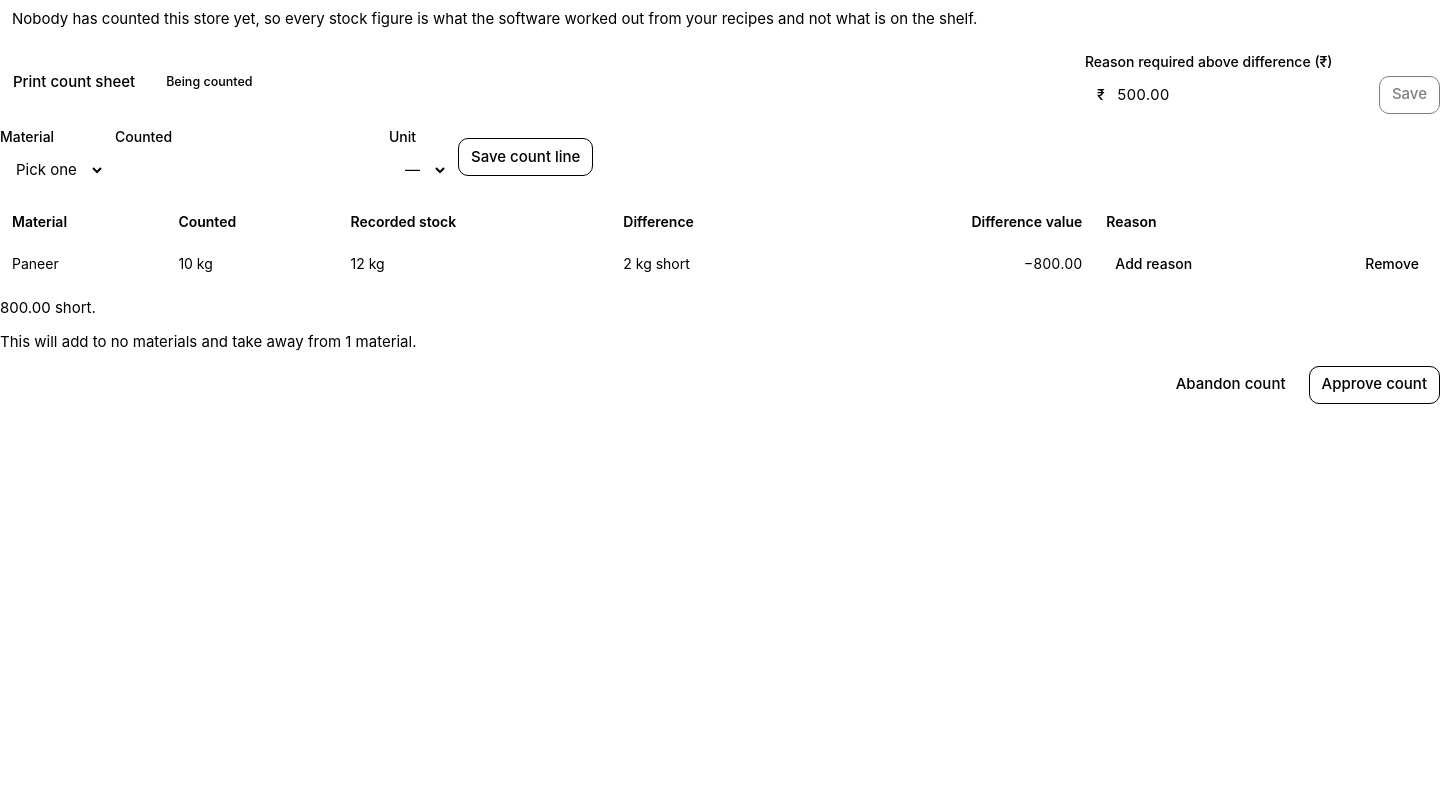
Test case: the stock count (P26) › asks why a big difference happened, rather than silently accepting it
Step 1. Click the button "Add reason" → [1154, 264], box [1106, 248, 1201, 278]
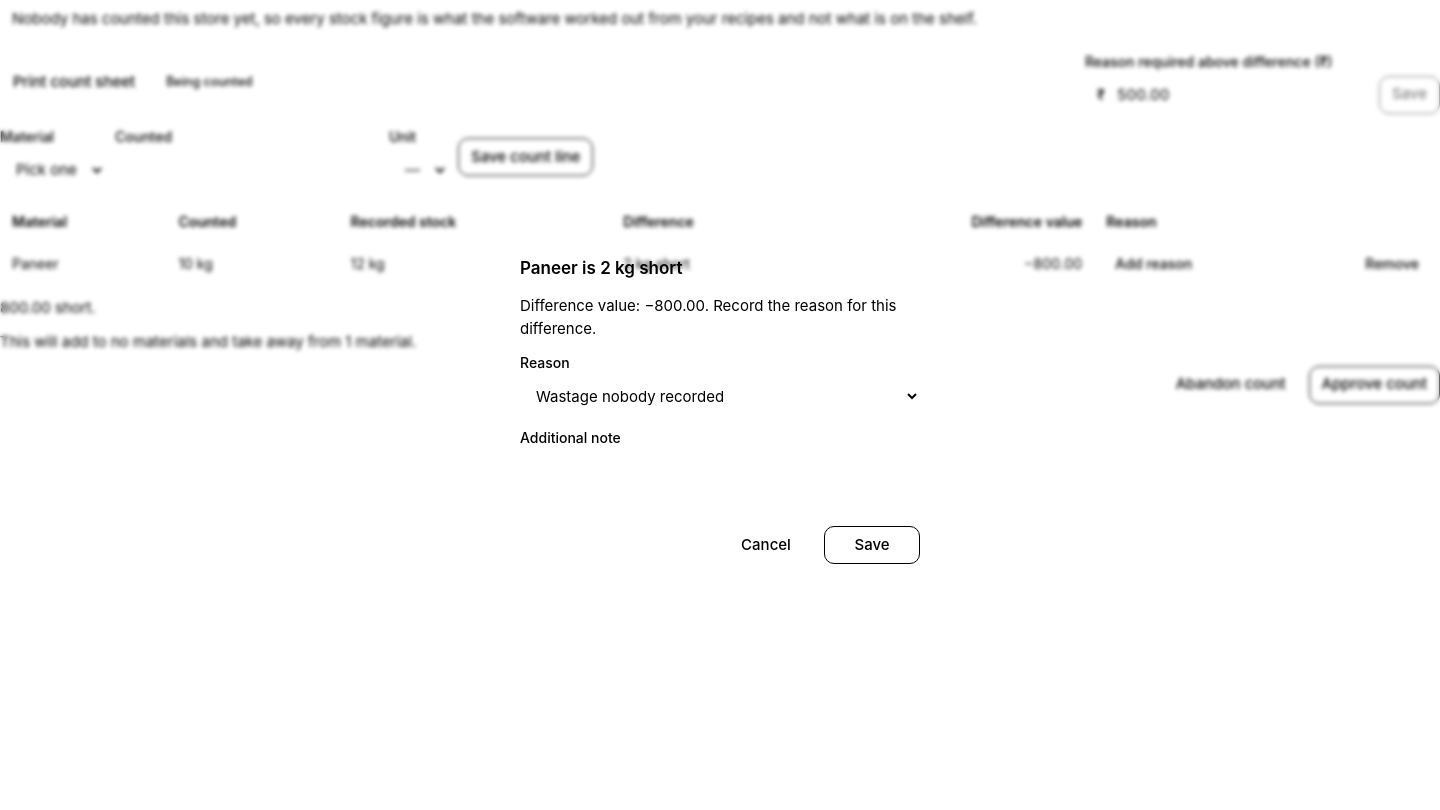
Now the heading "Paneer is 2 kg short" is shown, box [520, 258, 682, 279]
